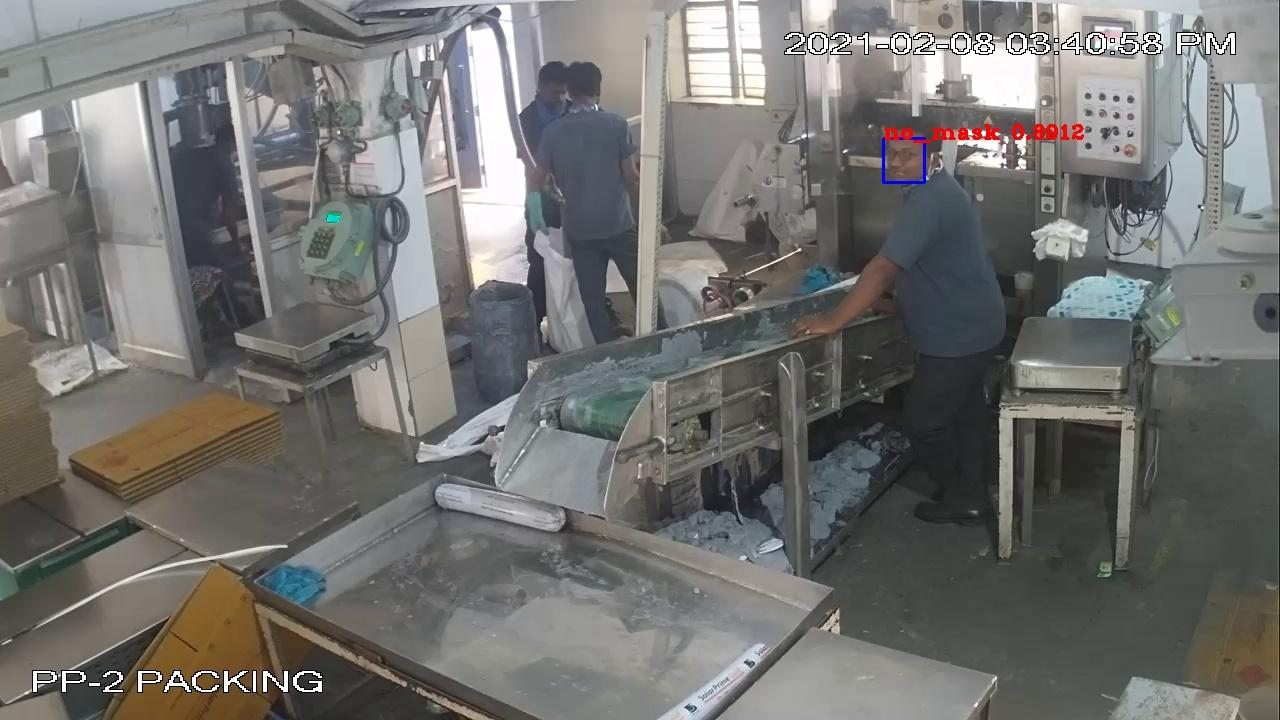NO-Gloves: (772, 229, 923, 354)
Person: (792, 157, 1009, 524), (533, 60, 640, 348)
